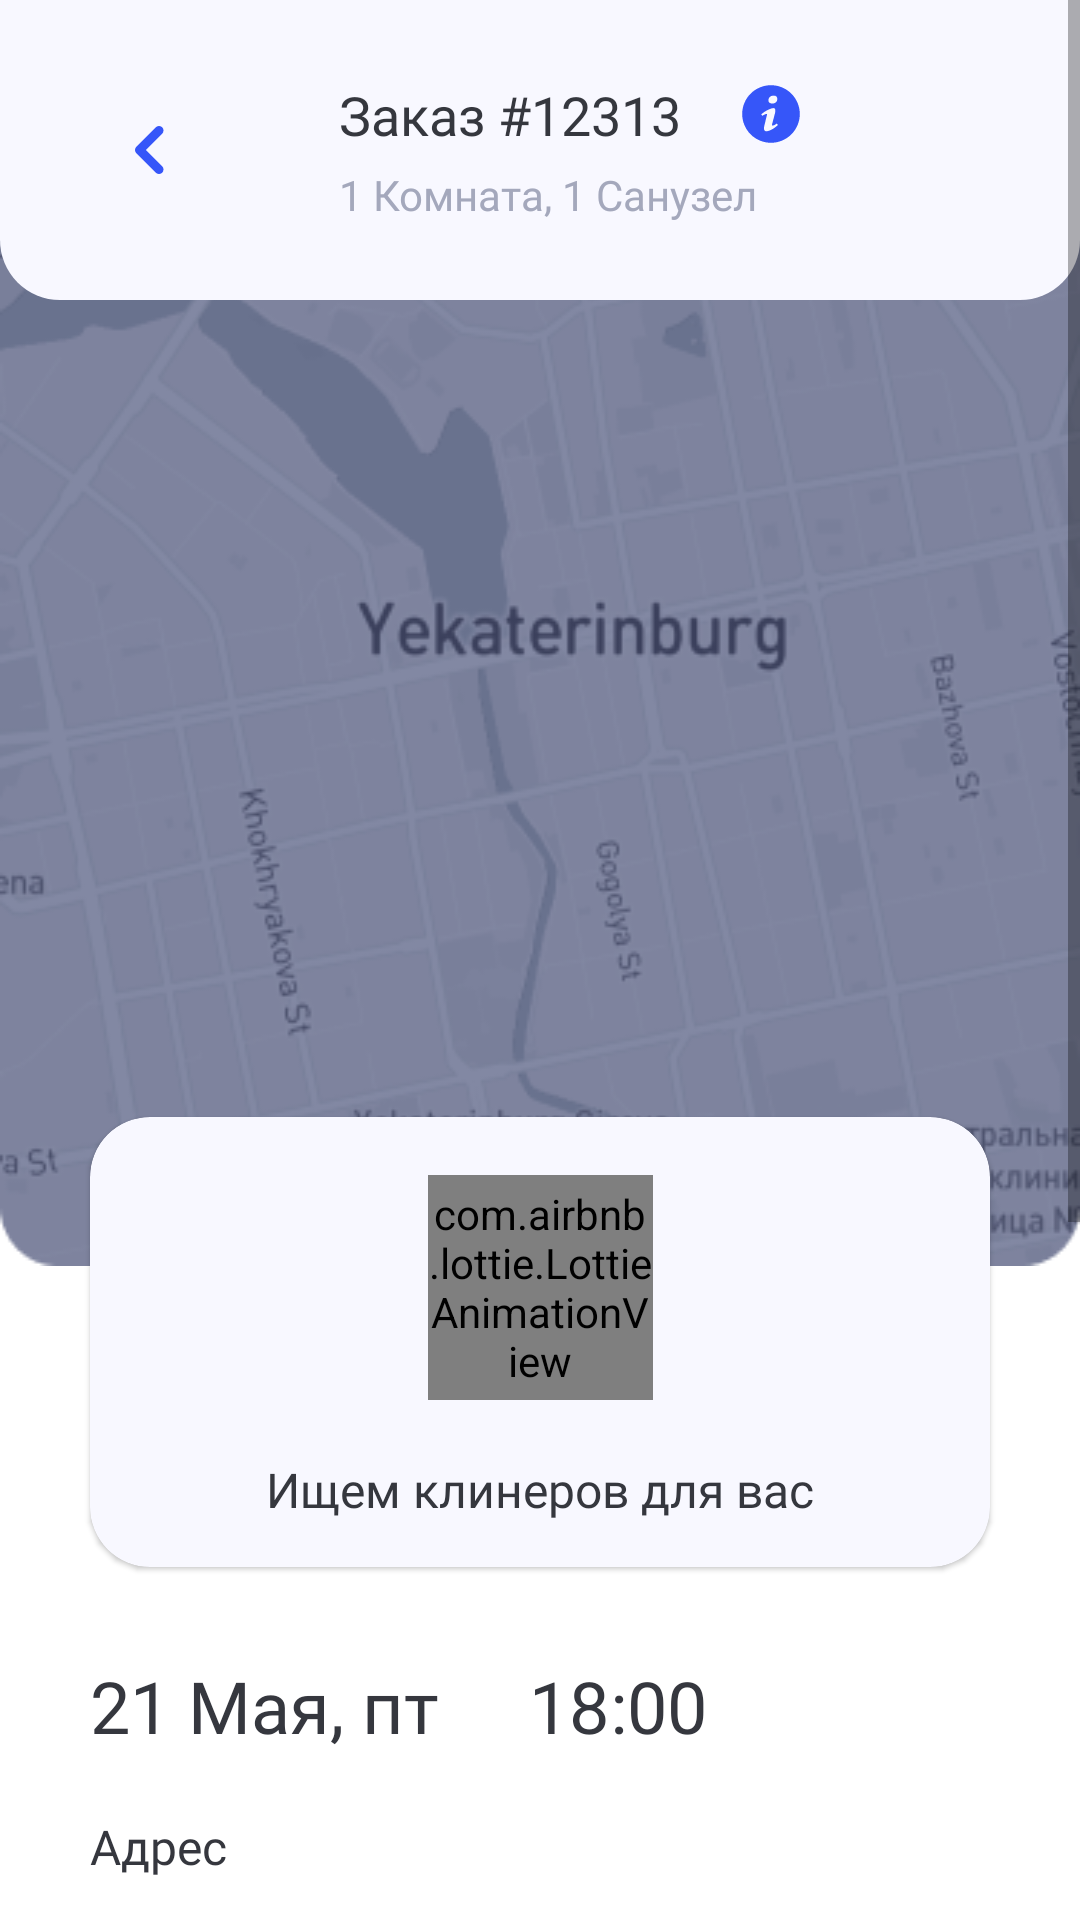

Screen size 1080x1920. Icon name, then its box in pixels as region(x1, y1, x2, y2):
back: region(135, 126, 164, 174)
info: region(742, 85, 800, 143)
